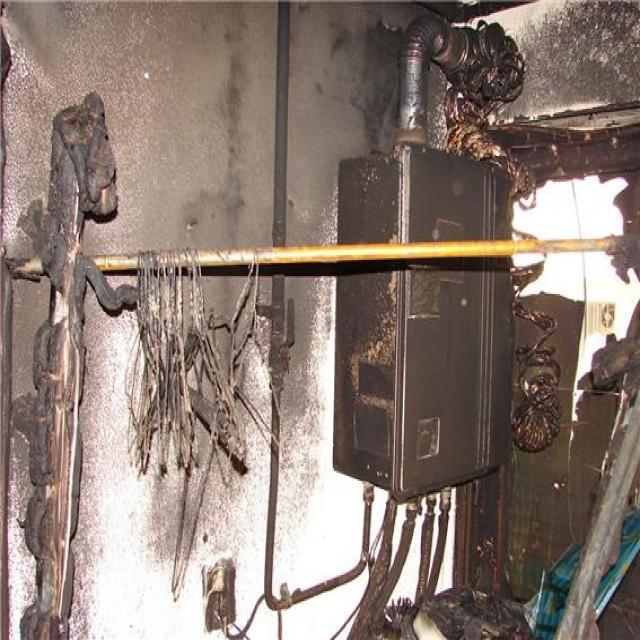Boiler: (300, 108, 546, 516)
